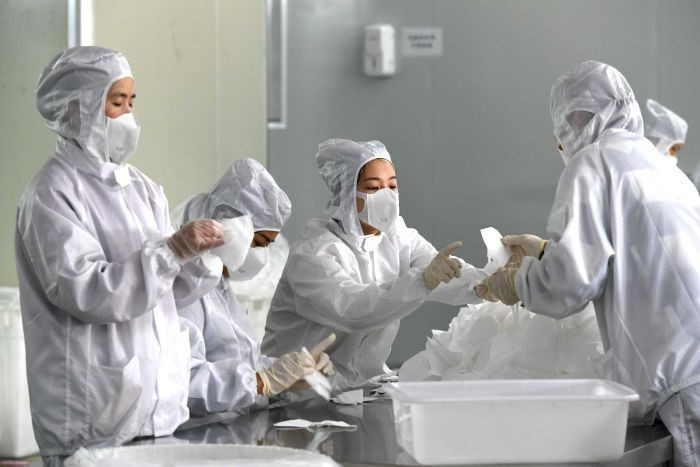Coverall: (517, 60, 700, 467), (11, 43, 192, 446), (258, 135, 485, 391), (168, 155, 294, 422)
with_mask: (223, 228, 282, 289), (161, 216, 228, 267), (102, 87, 143, 165), (253, 347, 313, 400), (354, 171, 401, 233), (417, 237, 462, 298), (297, 331, 337, 385), (474, 267, 519, 310), (498, 231, 549, 268)
